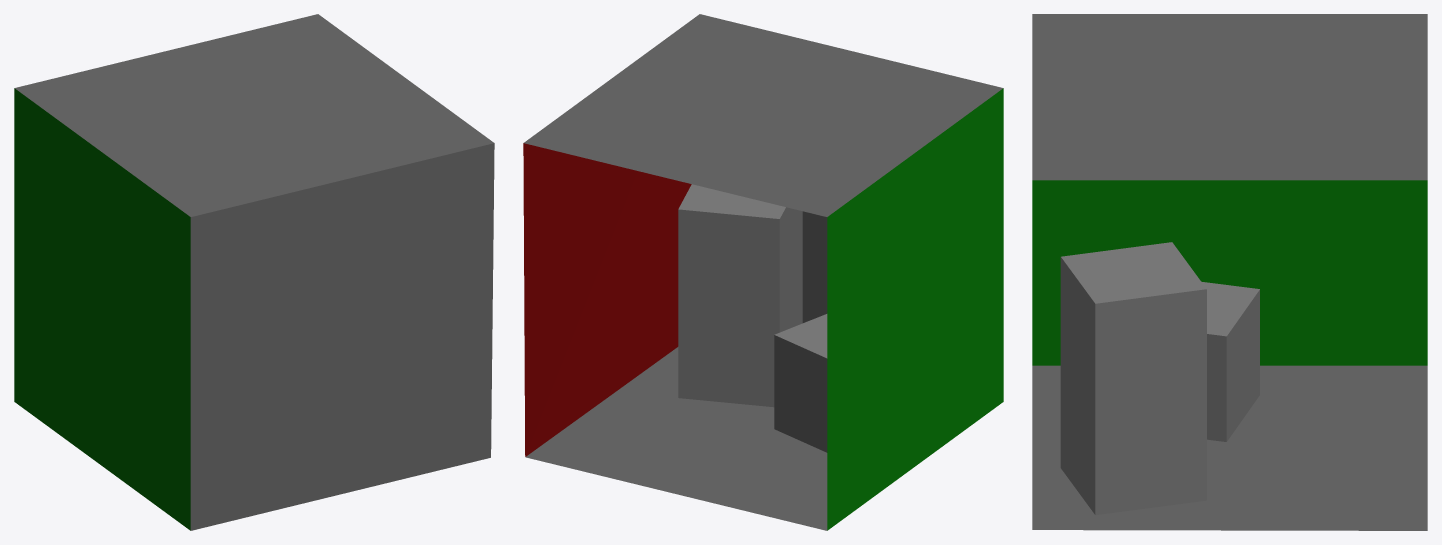
File: Cycles.obj
3 renders of one model, left to right at view 1: azimuth 30°, elevation 25°; view 2: azimuth 150°, elevation 25°; view 3: azimuth 270°, elevation 25°, orthographic. The views are drawn at different scales.
Visible parts, largest first — view 1: cornell_box; view 2: cornell_box, large_box, small_box; view 3: cornell_box, large_box, small_box.
Boxes of the visible parts, box(x1,y1,x2,y2) form: cornell_box: box(14, 14, 494, 530); cornell_box: box(523, 14, 1003, 530); large_box: box(678, 184, 802, 407); small_box: box(774, 314, 827, 452); cornell_box: box(1032, 14, 1427, 530); large_box: box(1060, 242, 1206, 515); small_box: box(1201, 281, 1259, 441).
Size of the model in its own units: 556 by 549 by 559.
